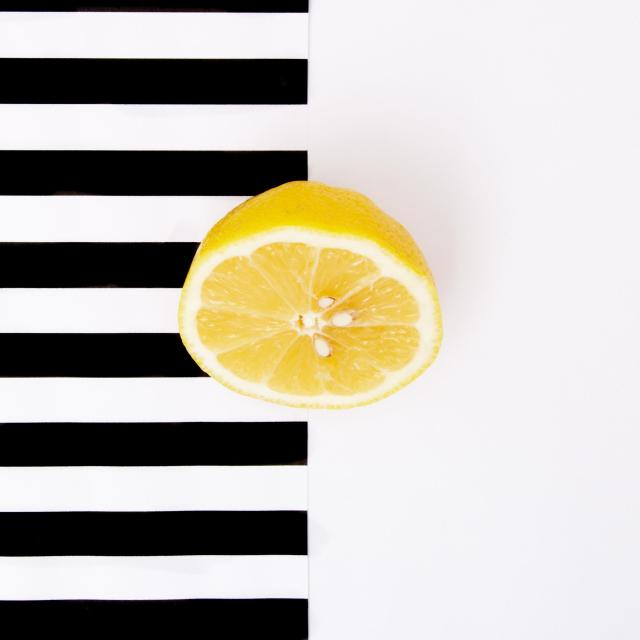lemon: (172, 175, 450, 415)
